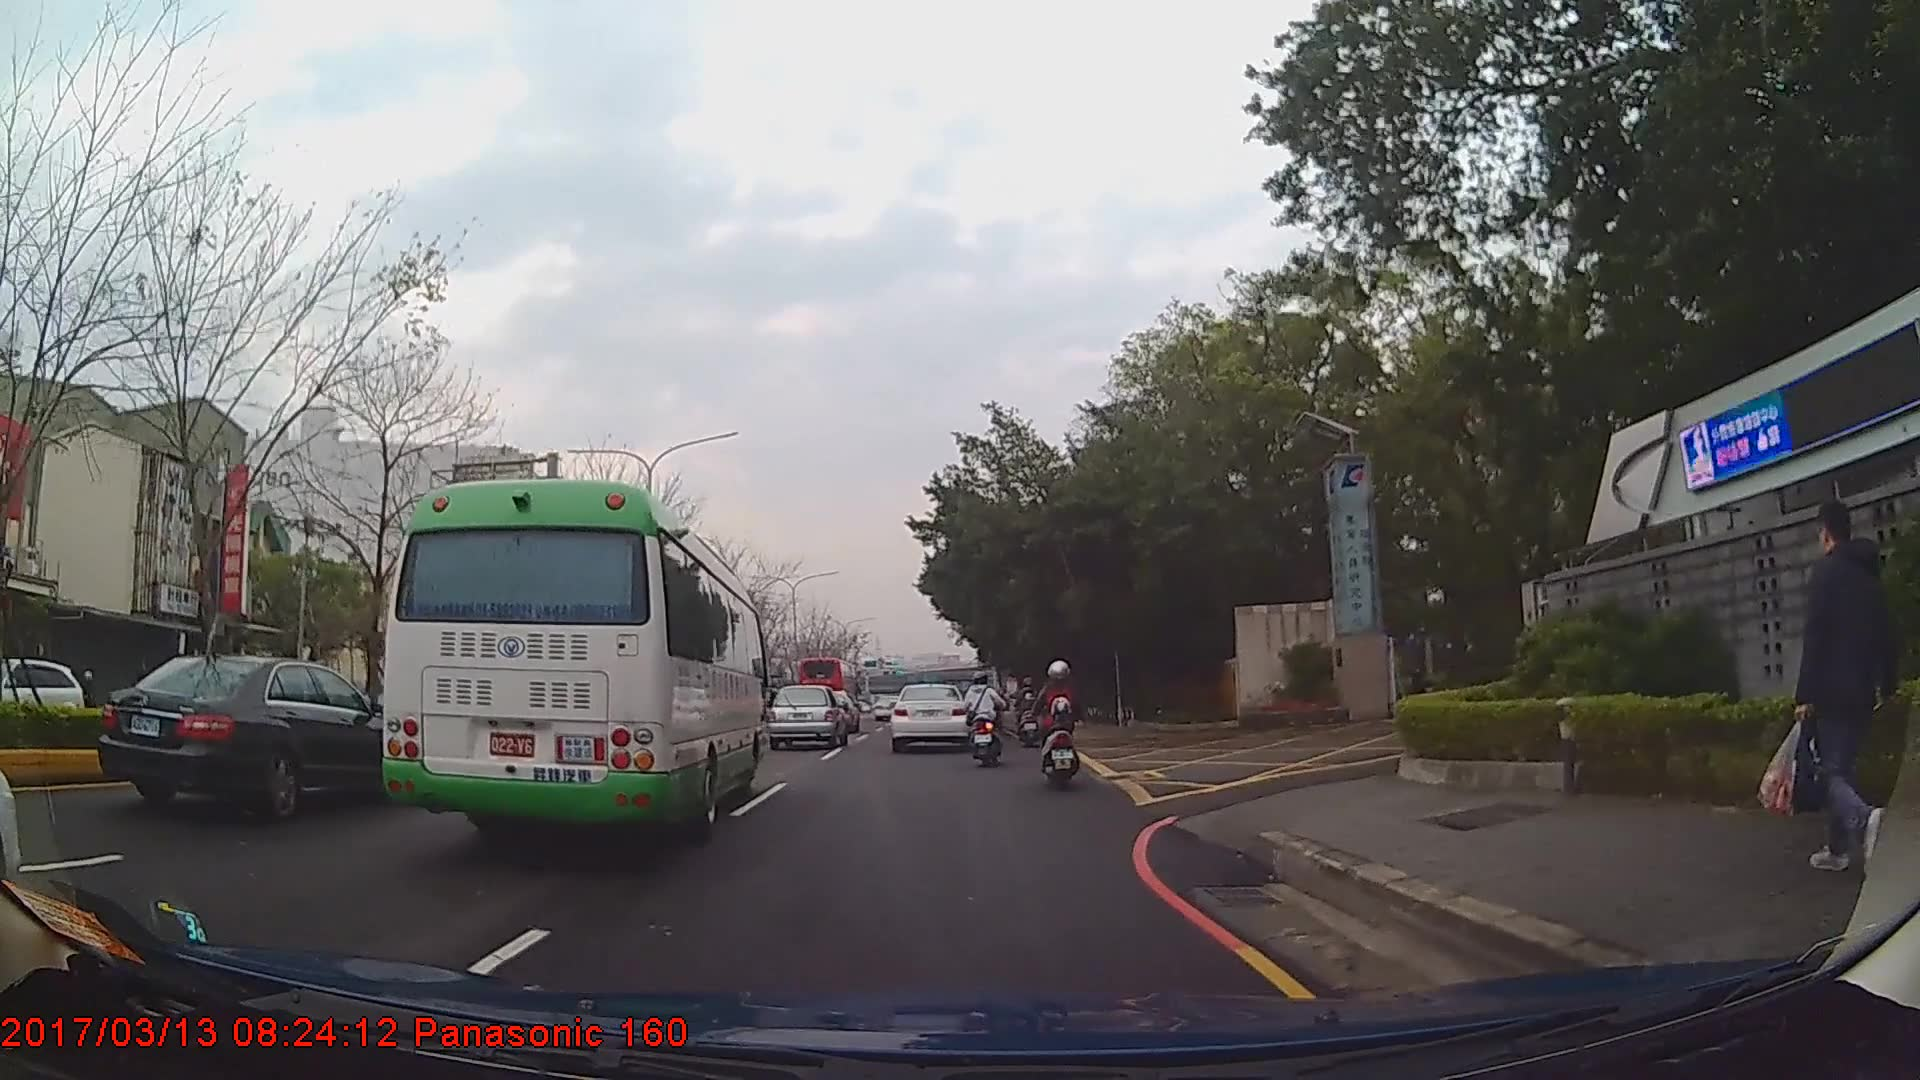pedestrian: (1756, 502, 1906, 872)
rider: (1040, 664, 1083, 799), (961, 677, 1003, 772), (1015, 678, 1044, 751)
vehicle: (369, 480, 764, 851), (96, 655, 428, 827), (0, 654, 85, 751), (889, 682, 969, 754), (769, 686, 850, 751), (795, 657, 858, 721)
